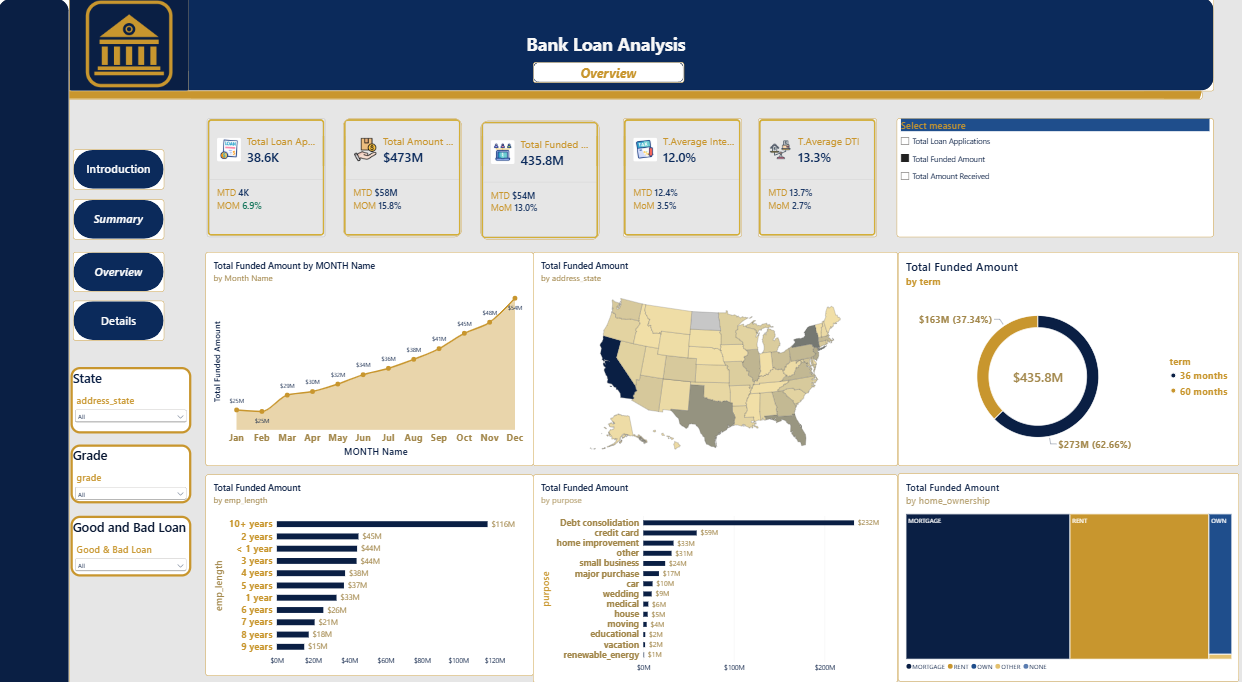

The page's visual inventory and layout, read from the dashboard file:
{"tool":"powerbi","page":{"name":"Overview","canvas":[3840,2160],"ordinal":2},"visuals":[{"type":"cardVisual","fields":{"Data":["_Measures.Total Loan Applications"]},"box":[386,222,280,158],"z":0},{"type":"cardVisual","fields":{"Data":["_Measures.Total Funded Amount"]},"box":[1008,220,270,160],"z":1000},{"type":"cardVisual","fields":{"Data":["_Measures.Total Amount Received"]},"box":[700,220,270,163.3],"z":2000},{"type":"cardVisual","fields":{"Data":["_Measures.T.Average DTI"]},"box":[1650,220,270,160],"z":3000},{"type":"shape","box":[32.5,55,275,215],"z":4000},{"type":"actionButton","box":[42,306,192,84],"z":5000},{"type":"actionButton","box":[37.5,522.5,192,84],"z":6000},{"type":"actionButton","box":[35,650,192,84],"z":7000},{"type":"actionButton","box":[37.5,407.5,192,84],"z":8000},{"type":"slicer","title":"State","fields":{"Values":["financial_loan.address_state"]},"box":[36,756,254,140],"z":9000},{"type":"slicer","title":"Grade","fields":{"Values":["financial_loan.grade"]},"box":[36,918,254,124],"z":10000},{"type":"slicer","title":"Good and Loan","fields":{"Values":["financial_loan.Good & Bad Loan"]},"box":[36,1080,254,128],"z":11000},{"type":"shape","box":[567.5,17.5,1062.5,165],"z":12000},{"type":"cardVisual","fields":{"Data":["_Measures.Average Interest Rate"]},"box":[1334,220,270,160],"z":13000},{"type":"lineChart","fields":{"Category":["Calendar_Table.MONTH Name"],"Y":["_Measures.Total Loan Applications"]},"box":[362,450,816,490],"z":14000},{"type":"donutChart","fields":{"Category":["financial_loan.term"],"Y":["_Measures.Total Loan Applications"]},"box":[2062,446,846,494],"z":15000},{"type":"shapeMap","fields":{"Category":["financial_loan.address_state"],"Value":["_Measures.Total Loan Applications"]},"box":[1246,450,768,494],"z":16000},{"type":"barChart","fields":{"Category":["financial_loan.emp_length"],"Y":["_Measures.Total Loan Applications"]},"box":[362,1002,816,462],"z":17000},{"type":"barChart","fields":{"Category":["financial_loan.purpose"],"Y":["_Measures.Total Loan Applications"]},"box":[1246,1002,768,462],"z":18000},{"type":"treemap","fields":{"Group":["financial_loan.home_ownership"],"Values":["_Measures.Total Loan Applications"]},"box":[2062,1002,846,462],"z":19000},{"type":"image","box":[16,38,332,232],"z":20000}]}

Visuals, with their boxes in screenshot pixels (x1, y1, x2, y2), scaled from the page's 3840x2160 canvas onto the 1242x682 screenshot:
cardVisual - _Measures.Total Loan Applications: [left=125, top=70, right=215, bottom=120]
cardVisual - _Measures.Total Funded Amount: [left=326, top=69, right=413, bottom=120]
cardVisual - _Measures.Total Amount Received: [left=226, top=69, right=314, bottom=121]
cardVisual - _Measures.T.Average DTI: [left=534, top=69, right=621, bottom=120]
shape: [left=11, top=17, right=99, bottom=85]
actionButton: [left=14, top=97, right=76, bottom=123]
actionButton: [left=12, top=165, right=74, bottom=191]
actionButton: [left=11, top=205, right=73, bottom=232]
actionButton: [left=12, top=129, right=74, bottom=155]
"State" slicer: [left=12, top=239, right=94, bottom=283]
"Grade" slicer: [left=12, top=290, right=94, bottom=329]
"Good and Loan" slicer: [left=12, top=341, right=94, bottom=381]
shape: [left=184, top=6, right=527, bottom=58]
cardVisual - _Measures.Average Interest Rate: [left=431, top=69, right=519, bottom=120]
lineChart - Calendar_Table.MONTH Name x _Measures.Total Loan Applications: [left=117, top=142, right=381, bottom=297]
donutChart - financial_loan.term x _Measures.Total Loan Applications: [left=667, top=141, right=941, bottom=297]
shapeMap - financial_loan.address_state x _Measures.Total Loan Applications: [left=403, top=142, right=651, bottom=298]
barChart - financial_loan.emp_length x _Measures.Total Loan Applications: [left=117, top=316, right=381, bottom=462]
barChart - financial_loan.purpose x _Measures.Total Loan Applications: [left=403, top=316, right=651, bottom=462]
treemap - financial_loan.home_ownership x _Measures.Total Loan Applications: [left=667, top=316, right=941, bottom=462]
image: [left=5, top=12, right=113, bottom=85]
